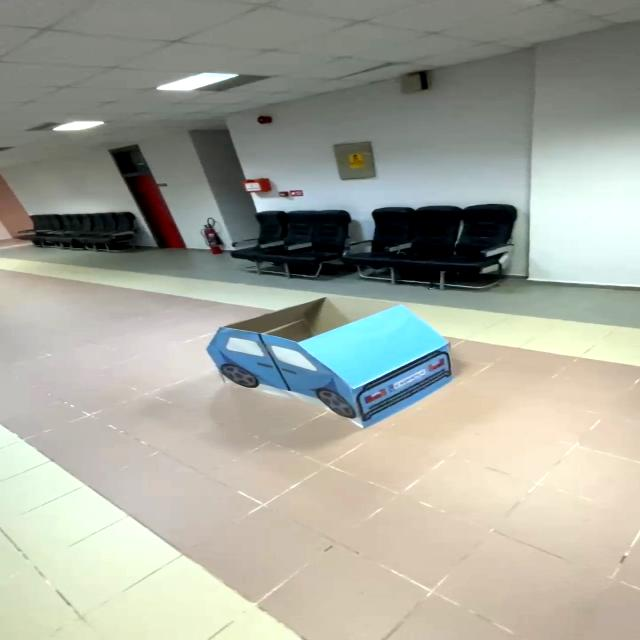blue_car: (182, 282, 470, 452)
